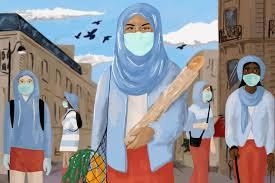Wearing Mask: (104, 0, 172, 79), (230, 46, 273, 92), (11, 64, 44, 105), (55, 81, 85, 118), (192, 80, 220, 114)
